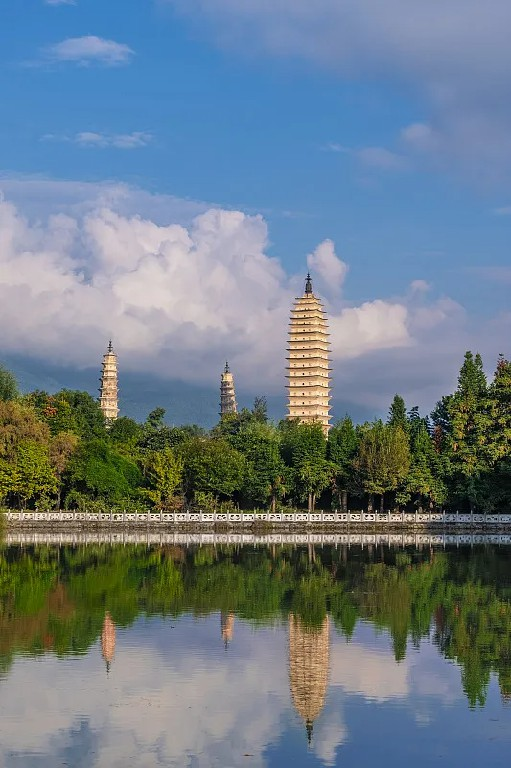ThreePagoda: (284, 272, 333, 438)
